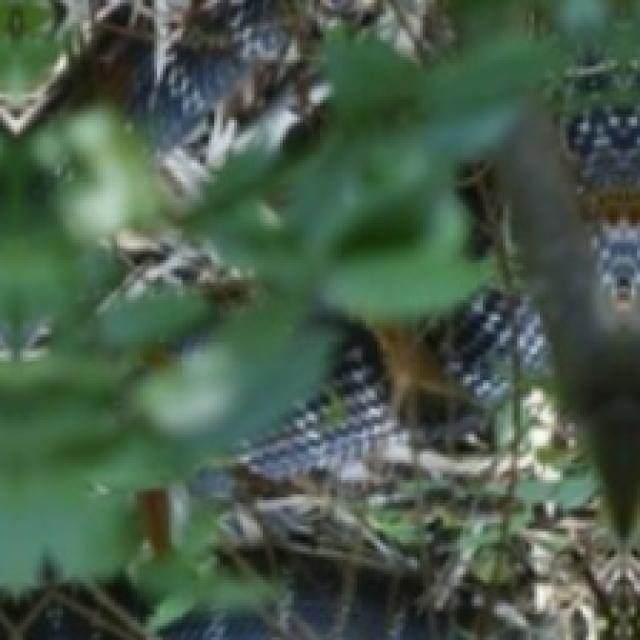king cobra: (291, 40, 637, 534), (360, 183, 451, 300)
